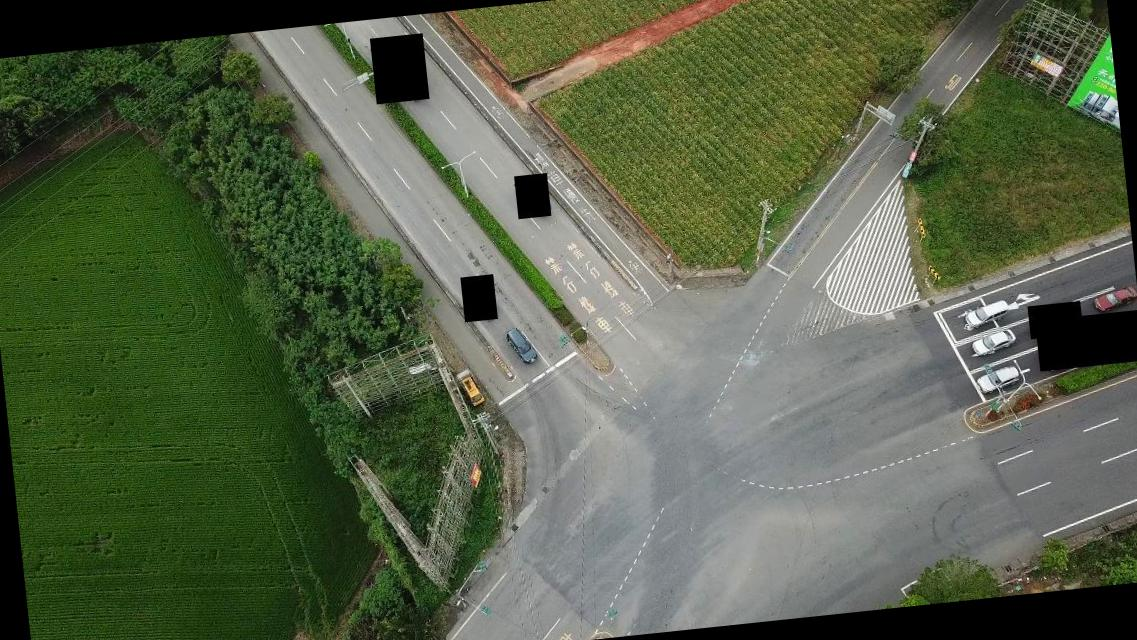vehicle: (975, 364, 1020, 394), (970, 328, 1016, 356), (964, 300, 1009, 328), (1092, 286, 1136, 314), (506, 324, 536, 364), (460, 374, 485, 406)
